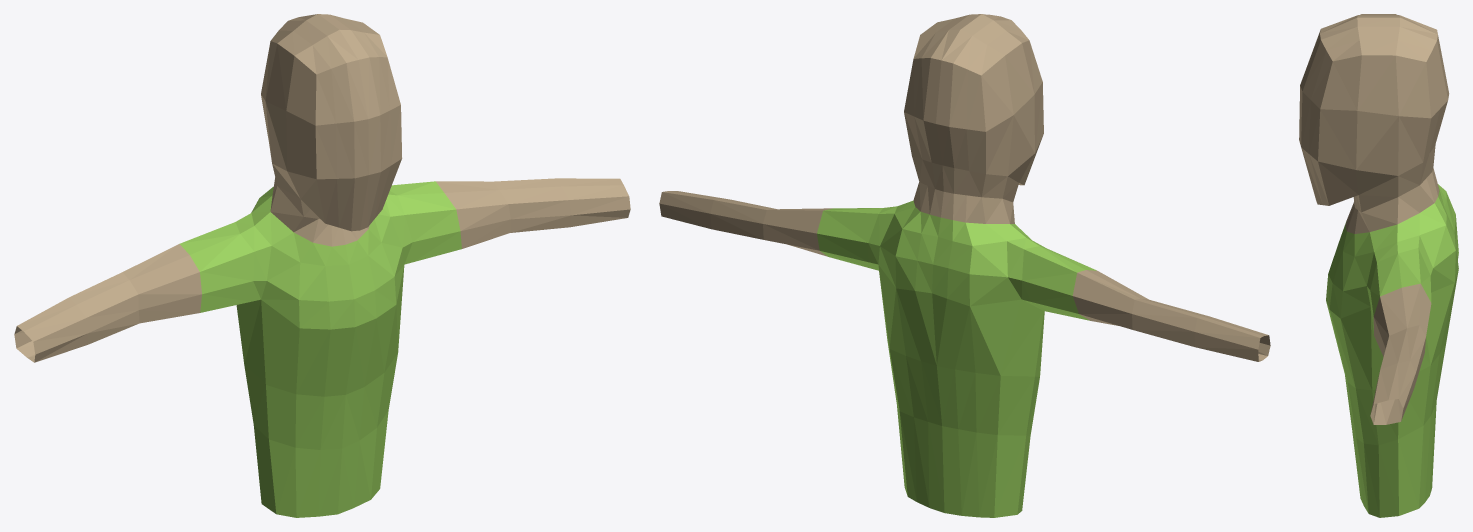
The model's file is SimpleMan.dae.
The picture shows the model from 3 angles, left to right: view 1: azimuth 30°, elevation 25°; view 2: azimuth 150°, elevation 25°; view 3: azimuth 270°, elevation 25°; orthographic projection.
Parts seen in each view (by area): view 1: Cube; view 2: Cube; view 3: Cube.
Boxes of the visible parts, x1,y1,x2,y2 form: Cube: [14, 14, 630, 517]; Cube: [659, 14, 1270, 517]; Cube: [1299, 14, 1458, 517].
Size of the model in its own units: 3.18 by 0.7351 by 2.44.
